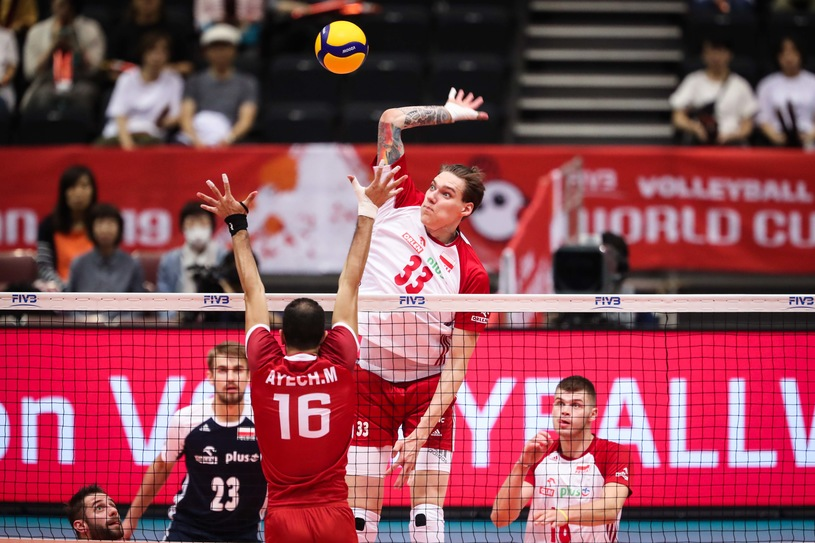ball: (315, 20, 369, 74)
